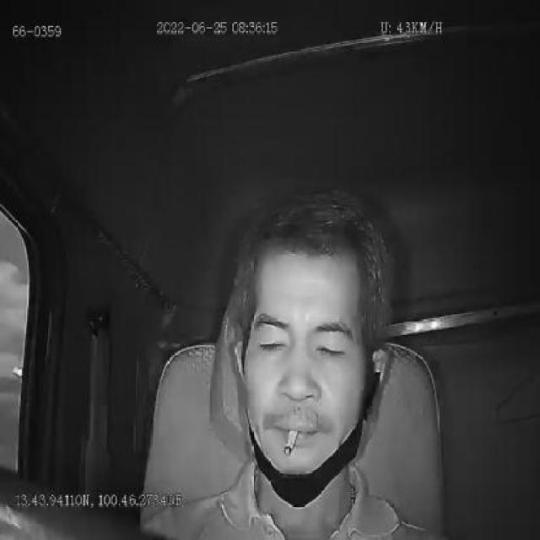smoking: (283, 430, 298, 454)
